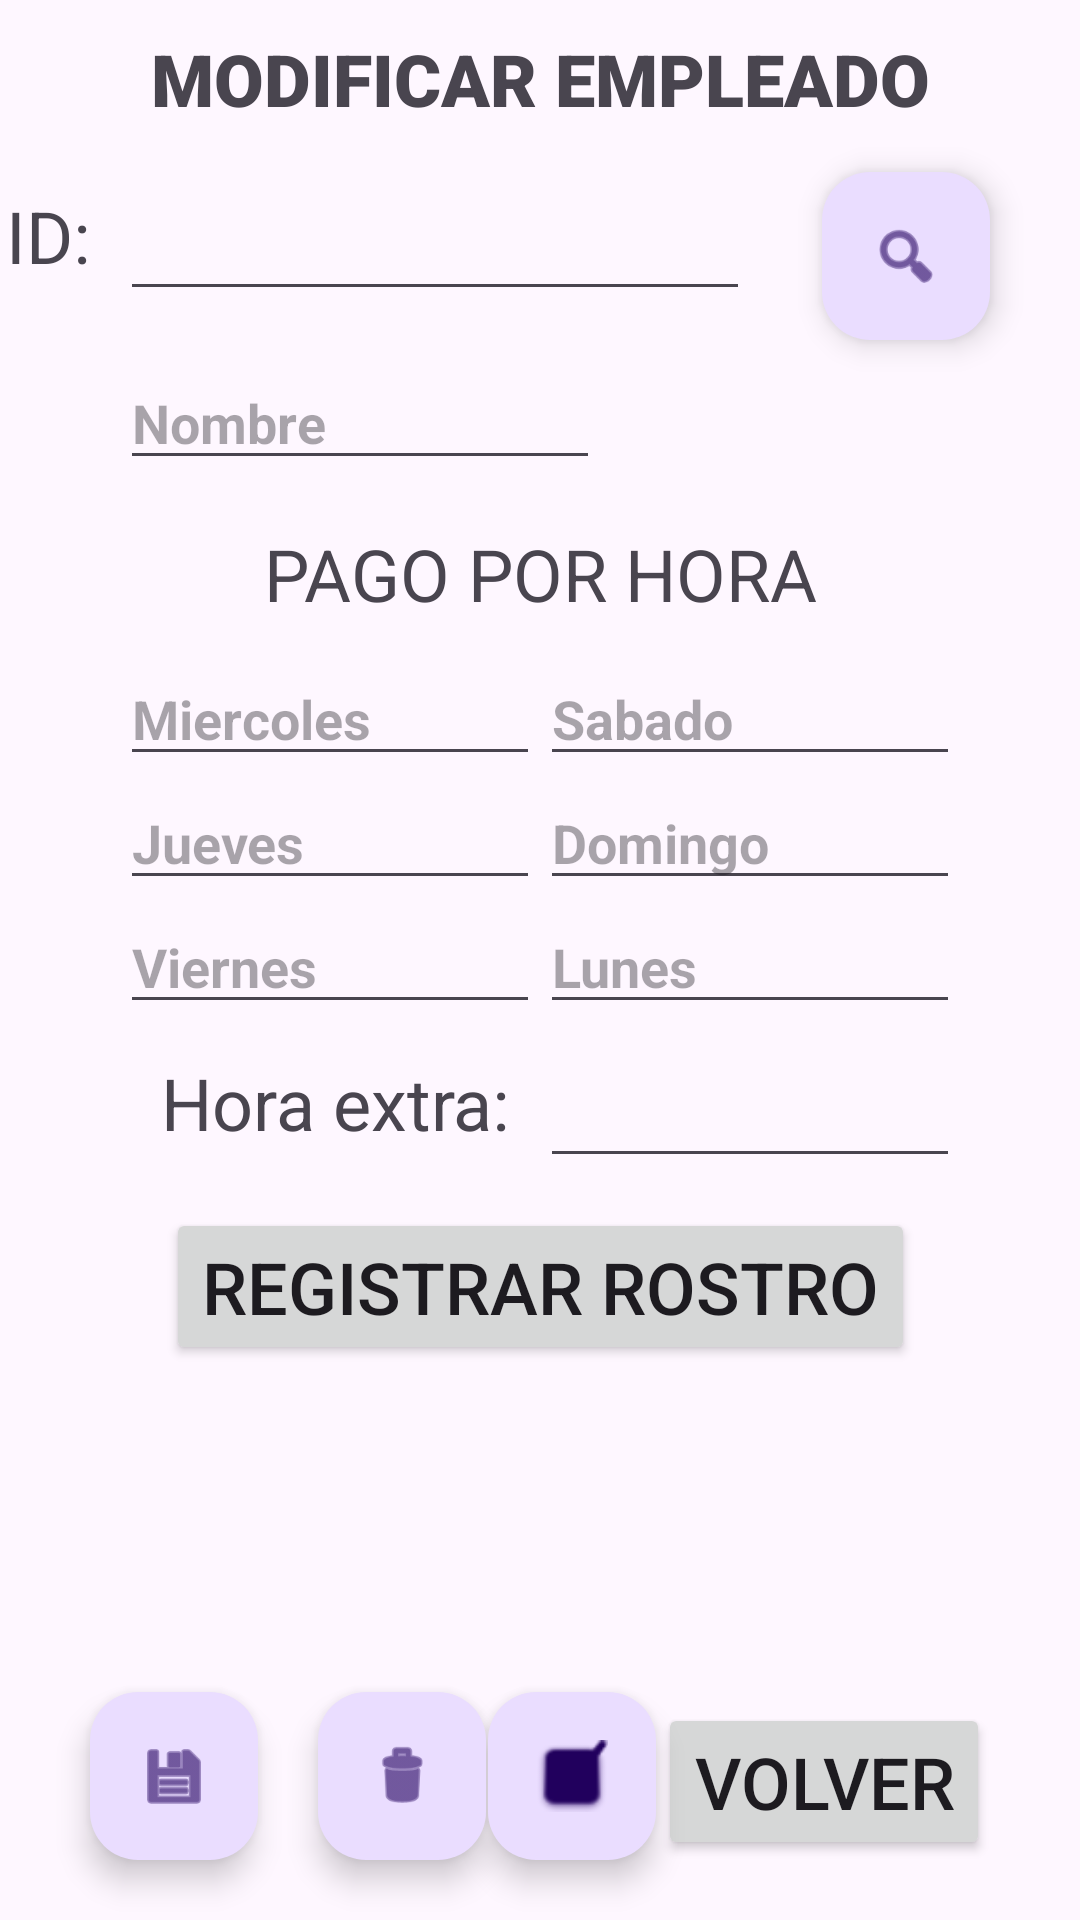

Screen size 1080px×1920px. Icon name, then its center in pixels as point (x, y):
delete: point (402, 1776)
save: point (174, 1776)
search: point (906, 256)
